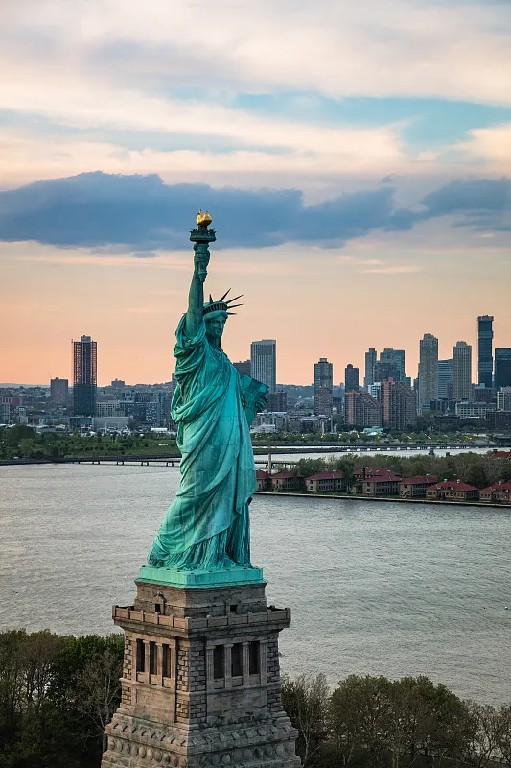SL: (101, 208, 302, 768)
